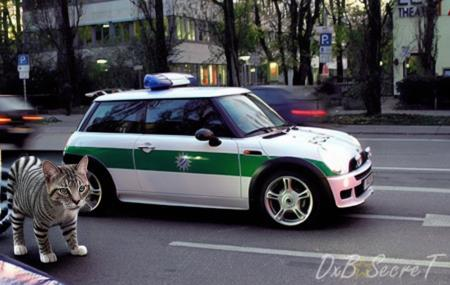car: (63, 72, 376, 230)
cat: (1, 150, 89, 257)
